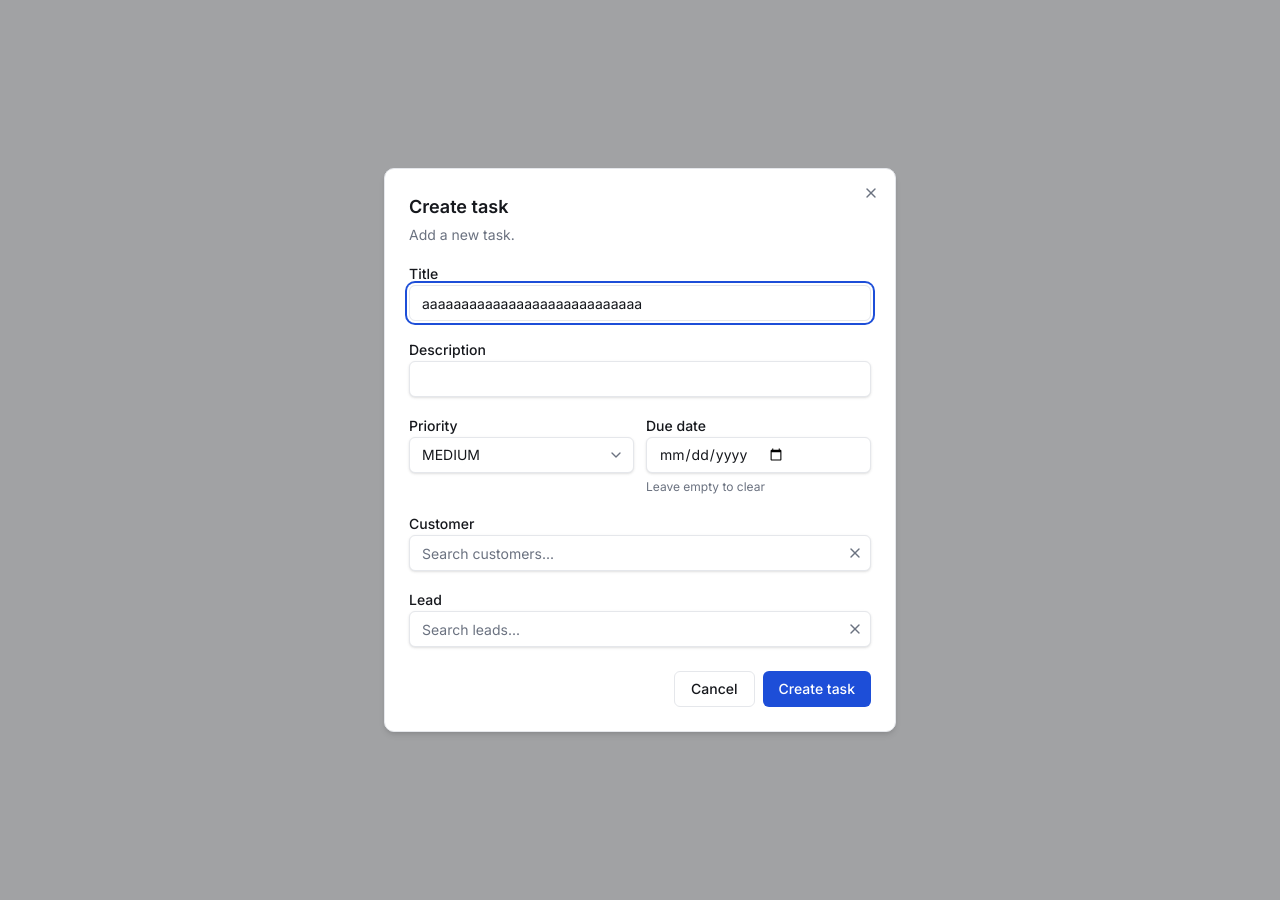
it: TaskFormDialog › surfaces an API error as a generic alert
The width and height of the screenshot is (1280, 900).
In the field labelled "Title": [640, 303] box [409,285,871,321], type "Call the customer"
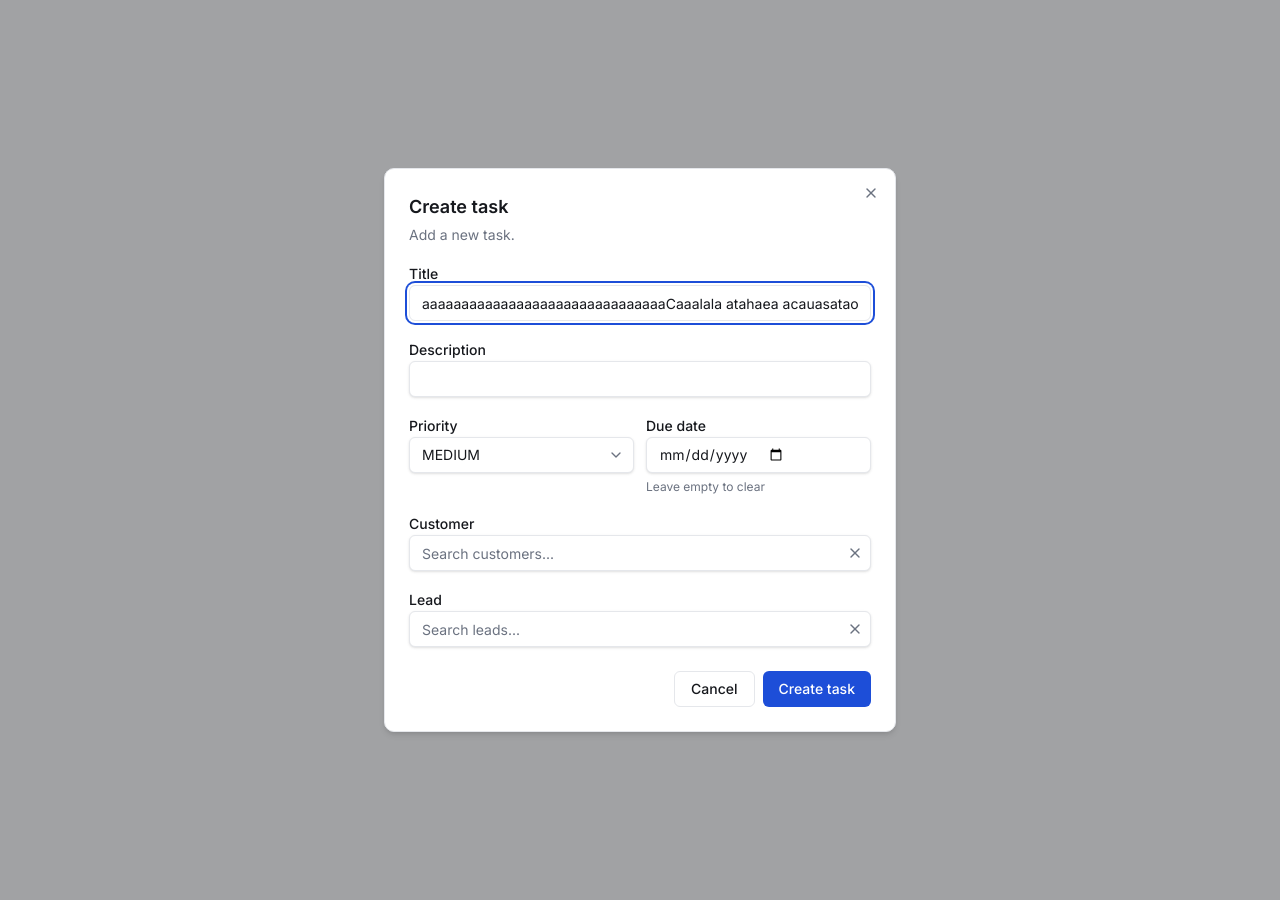
Click the button "Create task": [817, 689] box [762,671,871,707]
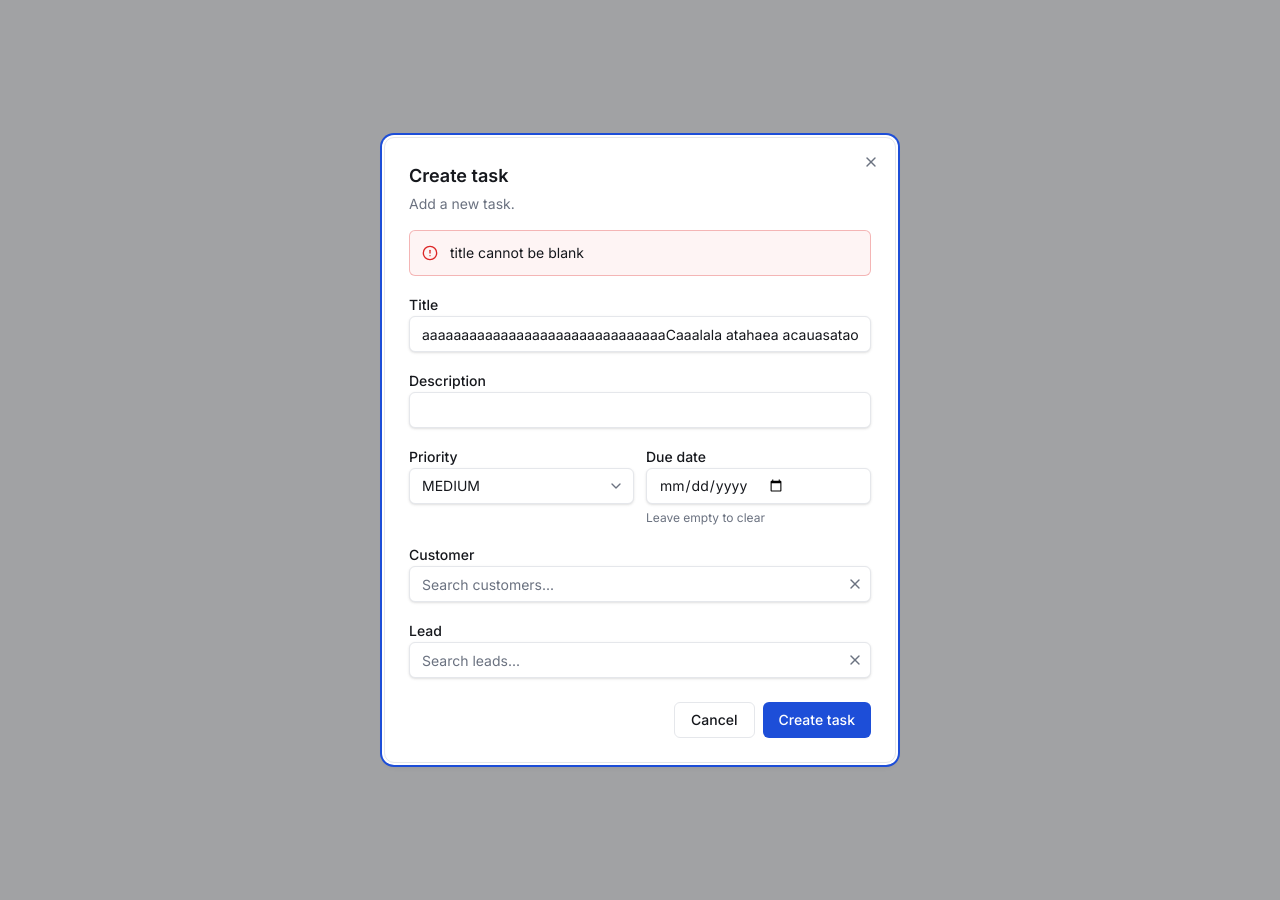
expect the text "title cannot be blank" is shown: met, box [450,243,584,263]
